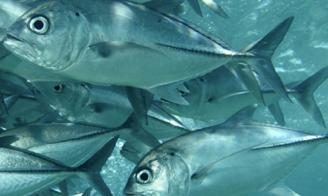Carangidae -Jacks-: (0, 0, 302, 104), (119, 98, 328, 196)
